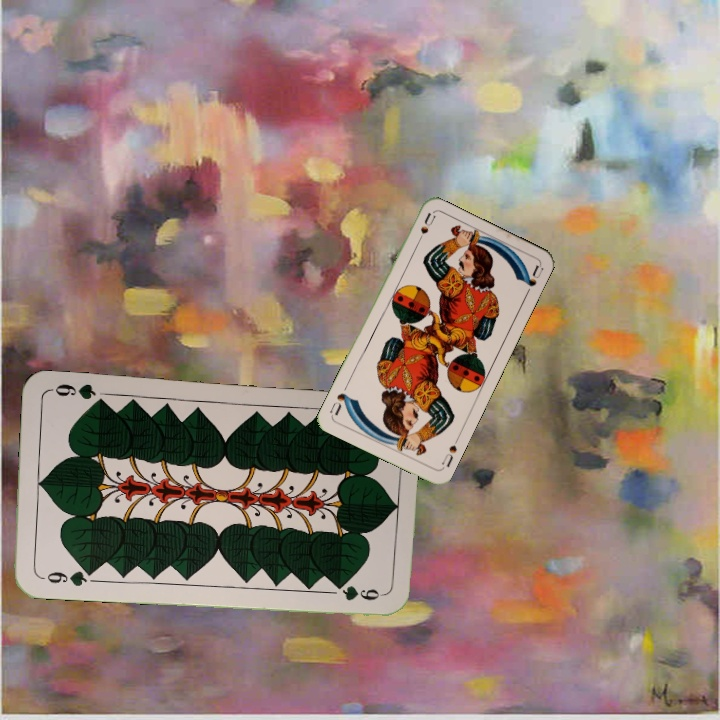G9: (37, 565, 96, 589)
SU: (412, 209, 438, 249), (438, 441, 460, 470)
